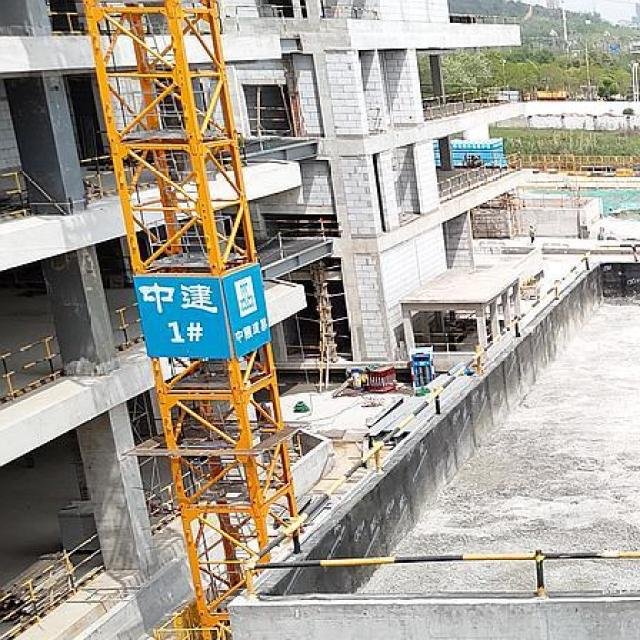edge_guardrail: (240, 243, 640, 601), (0, 533, 106, 640), (436, 151, 524, 202), (0, 332, 64, 400), (422, 82, 511, 121), (223, 4, 306, 36), (144, 481, 176, 536), (79, 154, 115, 200), (109, 303, 145, 348), (0, 170, 31, 218), (262, 220, 338, 237), (247, 106, 290, 134), (414, 332, 474, 352), (322, 4, 379, 20), (49, 11, 86, 35), (450, 14, 517, 24)
